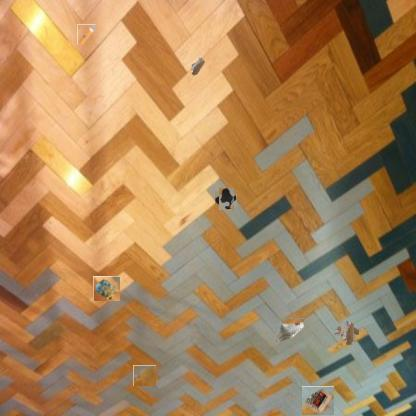dirty: (302, 386, 334, 415), (93, 275, 120, 302), (276, 318, 304, 342), (77, 24, 96, 45), (188, 55, 206, 77), (338, 324, 356, 342)
liquid: (133, 365, 156, 386), (217, 190, 235, 208)
